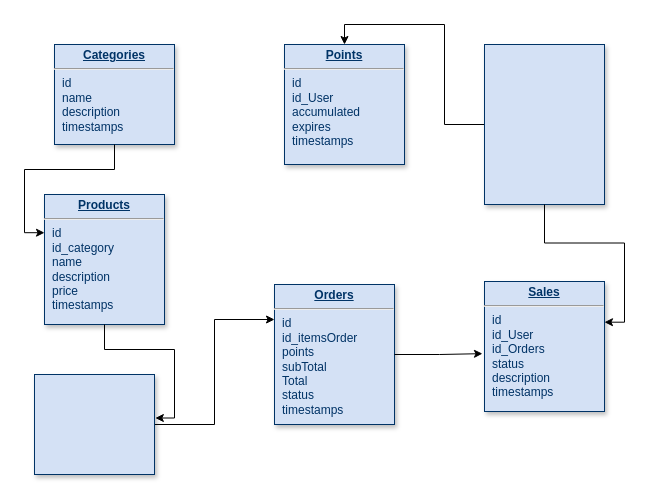
Image size: 650x499. Some labels were removed from this diagram. Here are the shapes that lost their labels. From the top down, the centre of each, then its label:
[545,126]: Users id userName email password token confirmed role timestamps
[95,426]: ItemsOrder id id_order id_producto timestamps
